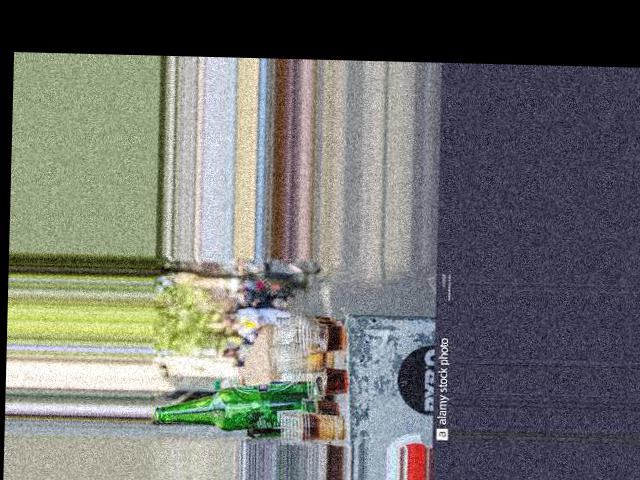beer: (155, 376, 329, 433)
